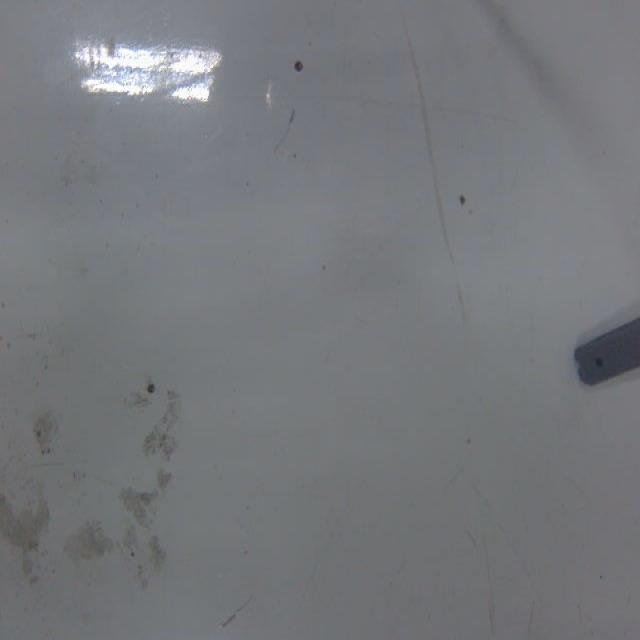grey: (573, 314, 640, 389)
head: (594, 356, 605, 370)
